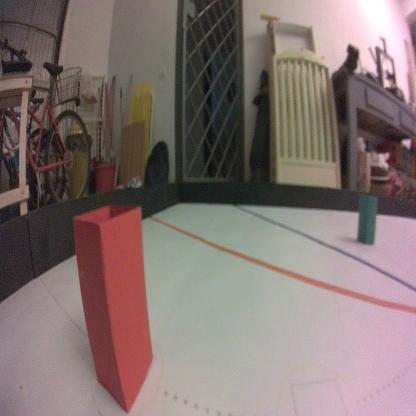green: (356, 192, 379, 246)
red: (72, 204, 154, 412)
